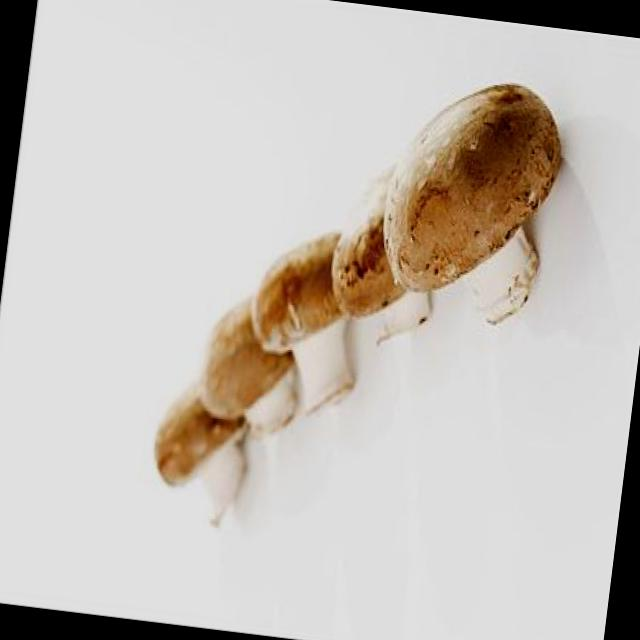Agaricus bisporus: (381, 74, 574, 322), (243, 221, 368, 410), (328, 184, 434, 348), (194, 307, 300, 448), (144, 390, 250, 505)
